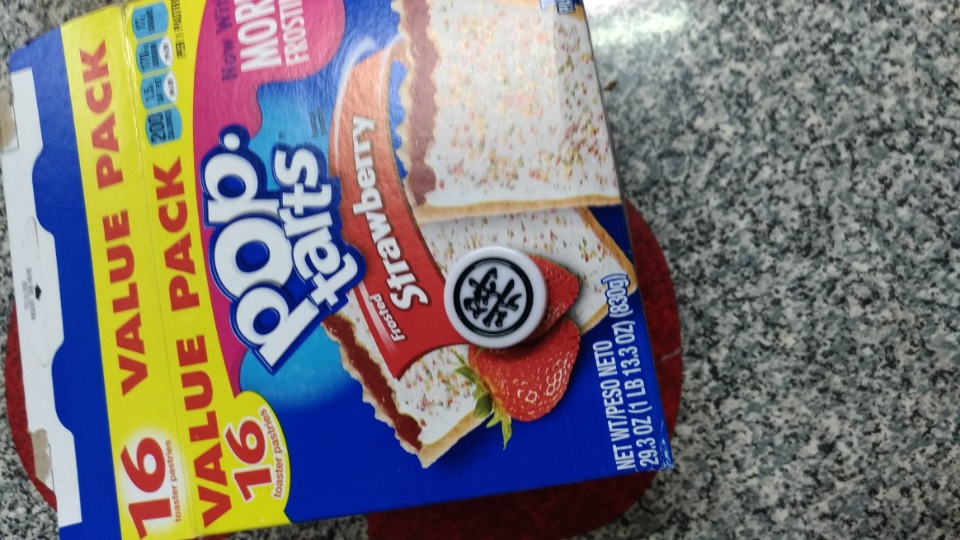b-king: (433, 232, 585, 362)
